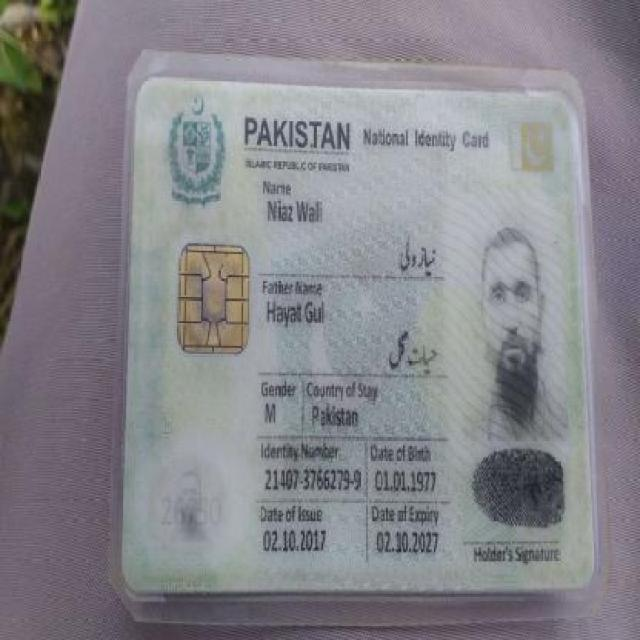Front: (118, 71, 600, 600)
